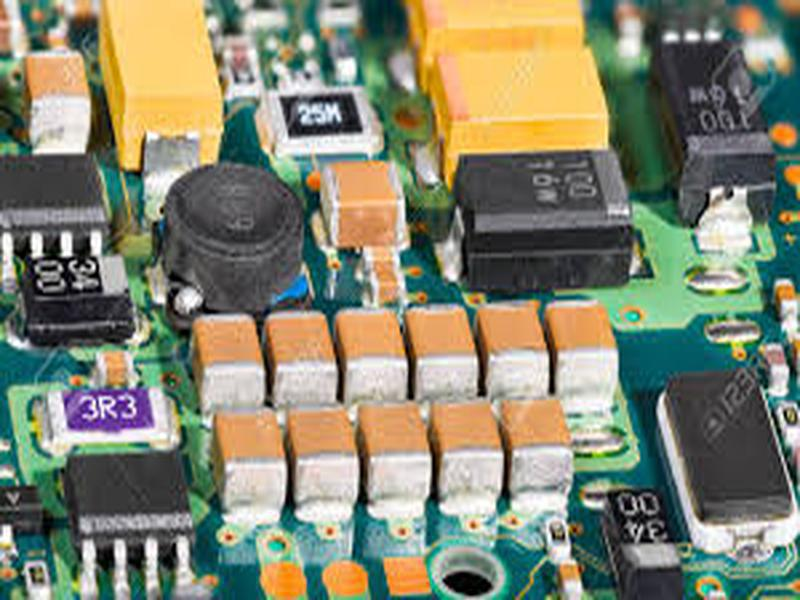SMD capacitor: (321, 161, 409, 248), (190, 316, 266, 401), (268, 313, 331, 399)
SMD resistor: (264, 88, 381, 156), (48, 385, 171, 444)
inductor_chunk: (160, 165, 310, 305)
